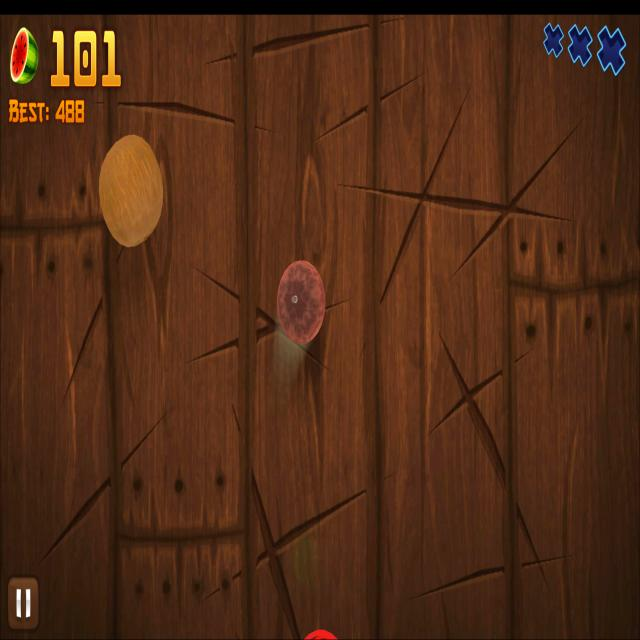fruit: (98, 134, 164, 248), (276, 259, 326, 345)
